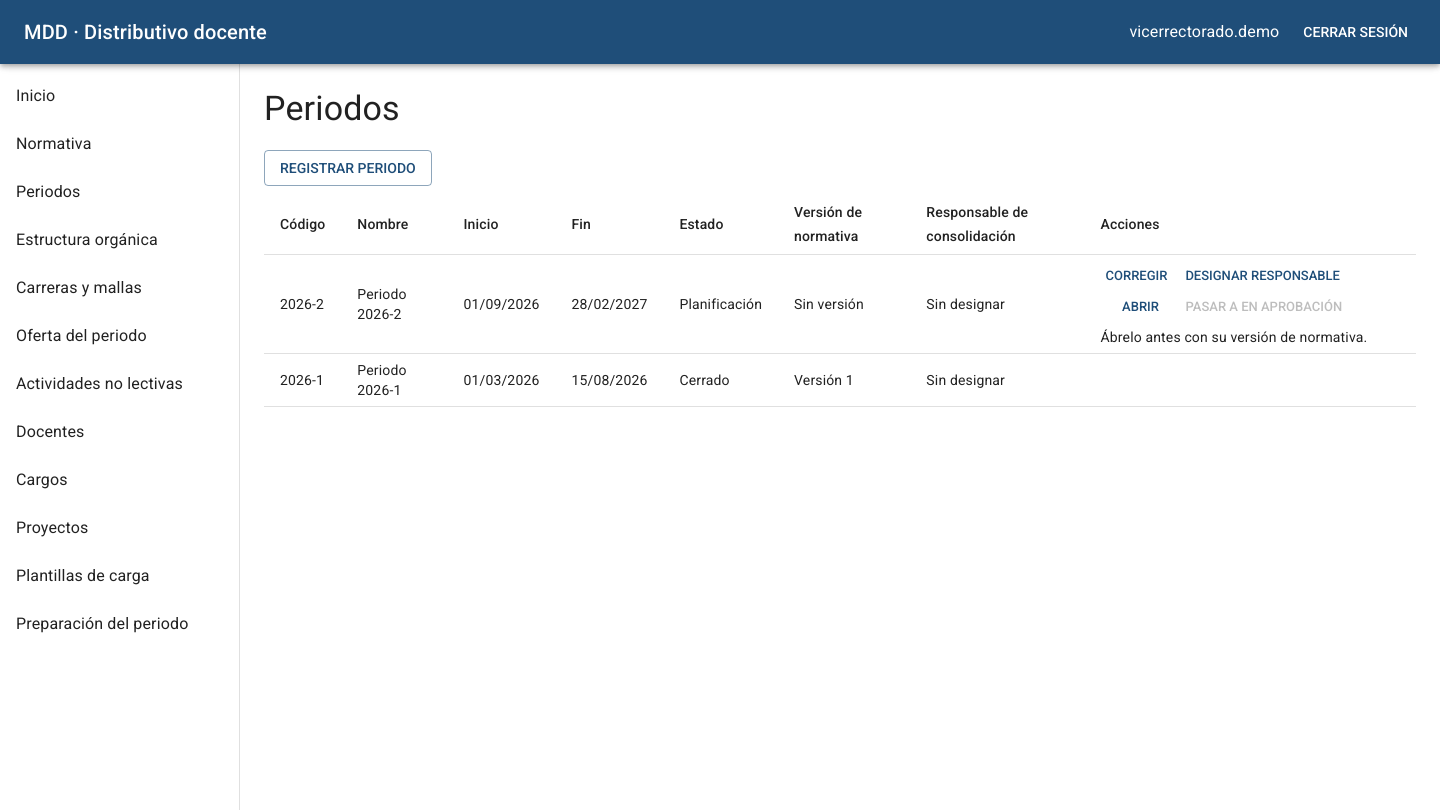
Test: Periodos › Responsable de consolidación (F05-H03) › designa a un docente de la lista, y no lo ofrece en un periodo cerrado
Click the button with aria-label "Designar responsable 2026-2".
click(1263, 277)  # box [1180, 261, 1345, 292]
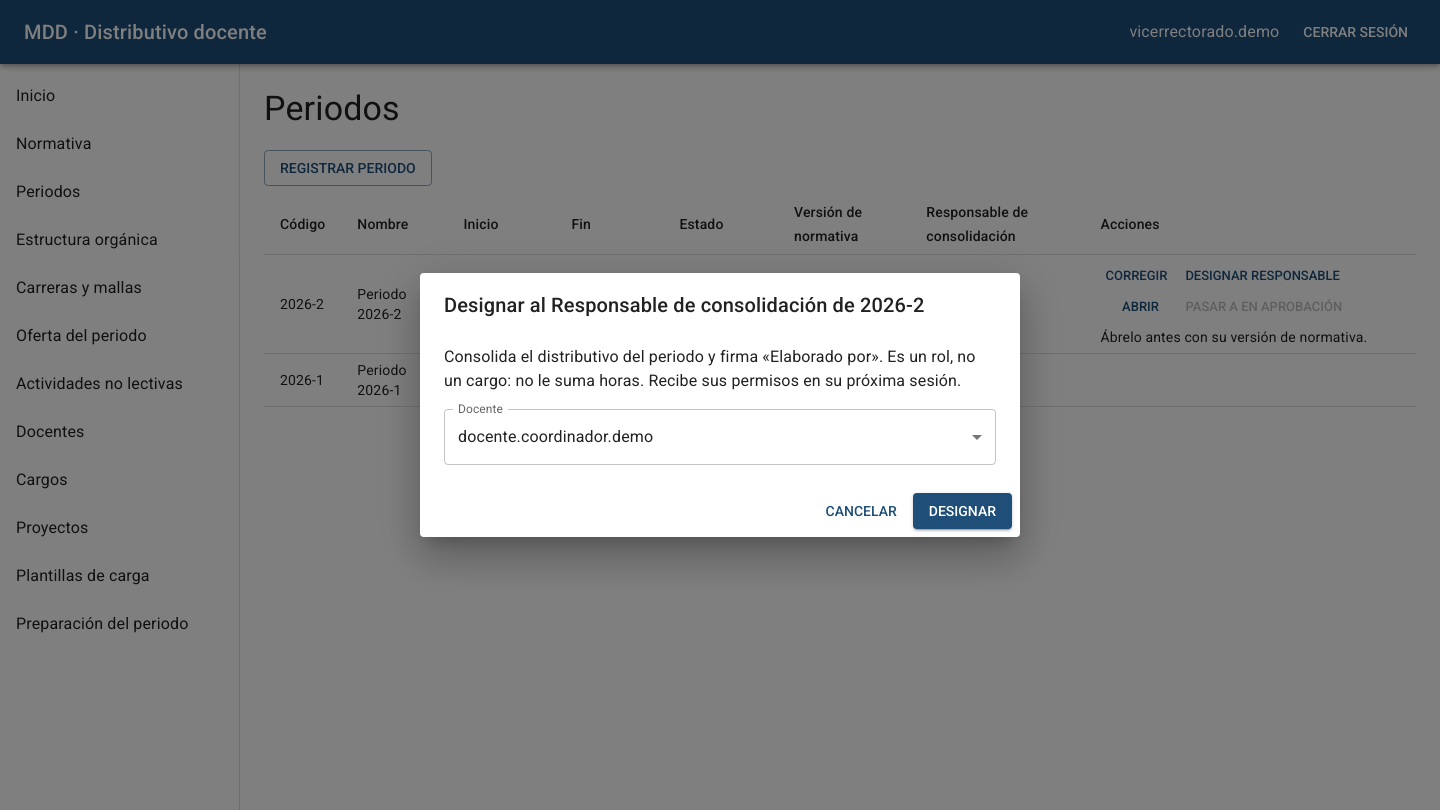
Select "docente.demo" in the dropdown labelled "Docente" at (720, 437), box [444, 409, 996, 465]
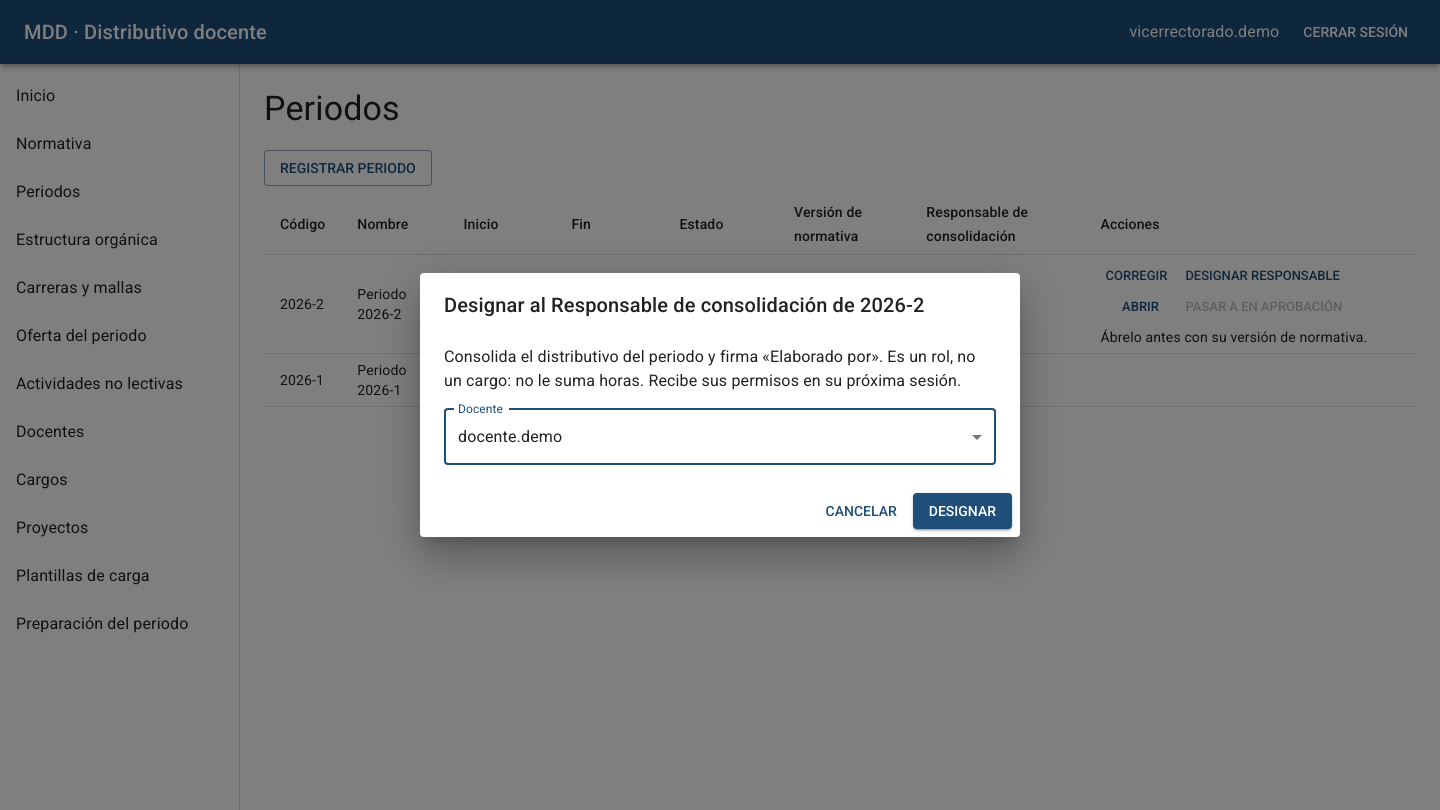
Click the button "Designar".
click(962, 511)  # box [913, 493, 1012, 529]
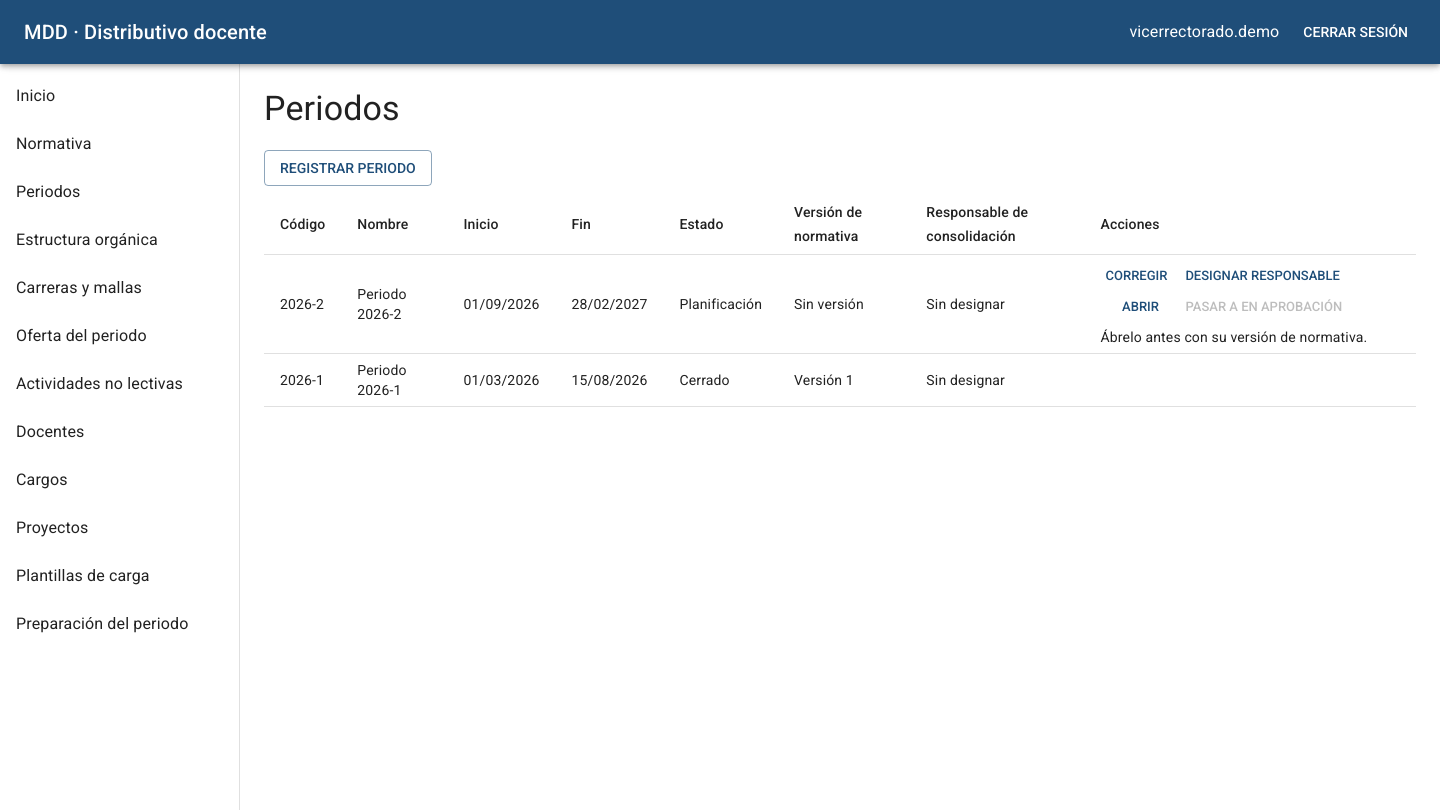
Result: the dialog is gone
